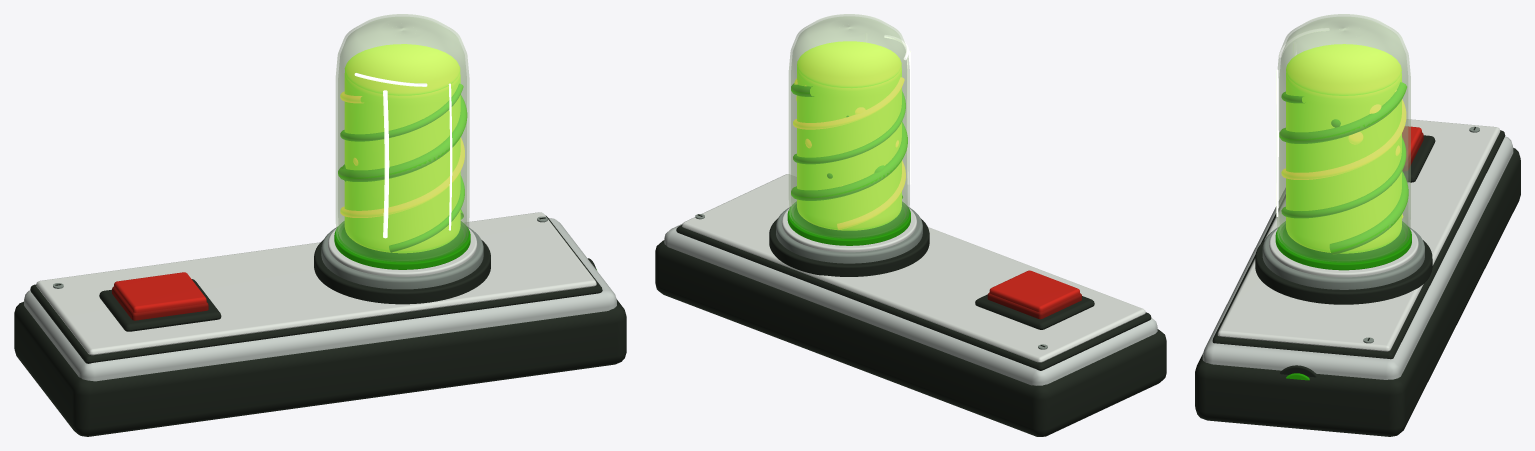
Rendered from portal_gun.glb.
3 renders of one model, left to right at view 1: azimuth 30°, elevation 25°; view 2: azimuth 150°, elevation 25°; view 3: azimuth 270°, elevation 25°, orthographic. The views are drawn at different scales.
Visible parts, largest first — view 1: Gun | graphite outline beneath shell, Cartridge | rounded transparent glass envelope, Gun | off-white top plate, Cartridge | contained luminous green liquid, Gun | main pale-grey rounded rectangular body, Gun | black top plate seam, Cartridge | curved liquid meniscus, Cartridge | graphite socket outline, Cartridge | lower green gasket, Button | raised red activation key, Cartridge | broad grey seating collar, Cartridge | swirling darker green filament 00 (+6 smaller); view 2: Gun | graphite outline beneath shell, Cartridge | rounded transparent glass envelope, Gun | off-white top plate, Cartridge | contained luminous green liquid, Gun | main pale-grey rounded rectangular body, Cartridge | curved liquid meniscus, Gun | black top plate seam, Cartridge | graphite socket outline, Cartridge | lower green gasket, Button | raised red activation key, Cartridge | broad grey seating collar, Cartridge | swirling darker green filament 00 (+6 smaller); view 3: Cartridge | rounded transparent glass envelope, Gun | graphite outline beneath shell, Gun | off-white top plate, Cartridge | contained luminous green liquid, Gun | main pale-grey rounded rectangular body, Cartridge | curved liquid meniscus, Gun | black top plate seam, Cartridge | graphite socket outline, Cartridge | swirling darker green filament 00, Cartridge | lower green gasket, Cartridge | broad grey seating collar, Cartridge | off-white collar top (+5 smaller).
Boxes of the visible parts, box(x1,y1,x2,y2) form: Gun | graphite outline beneath shell: box(14, 299, 626, 436); Cartridge | rounded transparent glass envelope: box(336, 14, 469, 261); Gun | off-white top plate: box(36, 212, 596, 355); Cartridge | contained luminous green liquid: box(344, 73, 460, 253); Gun | main pale-grey rounded rectangular body: box(24, 218, 616, 381); Gun | black top plate seam: box(30, 215, 602, 363); Cartridge | curved liquid meniscus: box(344, 44, 460, 95); Cartridge | graphite socket outline: box(314, 239, 490, 304); Cartridge | lower green gasket: box(334, 221, 470, 269); Button | raised red activation key: box(114, 272, 206, 312); Cartridge | broad grey seating collar: box(321, 226, 483, 289); Cartridge | swirling darker green filament 00: box(338, 95, 467, 219); Gun | graphite outline beneath shell: box(655, 240, 1166, 436); Cartridge | rounded transparent glass envelope: box(789, 14, 909, 238); Gun | off-white top plate: box(682, 174, 1145, 362); Cartridge | contained luminous green liquid: box(797, 67, 901, 230); Gun | main pale-grey rounded rectangular body: box(664, 224, 1157, 385); Cartridge | curved liquid meniscus: box(797, 41, 901, 88); Gun | black top plate seam: box(676, 225, 1151, 370); Cartridge | graphite socket outline: box(769, 218, 929, 276); Cartridge | lower green gasket: box(787, 201, 910, 245); Button | raised red activation key: box(989, 270, 1079, 312); Cartridge | broad grey seating collar: box(776, 206, 922, 263); Cartridge | swirling darker green filament 00: box(791, 83, 907, 200); Cartridge | rounded transparent glass envelope: box(1277, 14, 1410, 262); Gun | graphite outline beneath shell: box(1195, 147, 1520, 436); Gun | off-white top plate: box(1217, 119, 1500, 351); Cartridge | contained luminous green liquid: box(1286, 73, 1401, 253); Gun | main pale-grey rounded rectangular body: box(1202, 136, 1513, 379); Cartridge | curved liquid meniscus: box(1286, 44, 1401, 95); Gun | black top plate seam: box(1212, 130, 1505, 359); Cartridge | graphite socket outline: box(1255, 240, 1432, 304); Cartridge | swirling darker green filament 00: box(1279, 82, 1408, 254); Cartridge | lower green gasket: box(1275, 221, 1411, 270); Cartridge | broad grey seating collar: box(1262, 227, 1424, 289); Cartridge | off-white collar top: box(1269, 228, 1418, 277).
Bounding box in the file's own units: 2.15 × 1.25 × 1.15.
